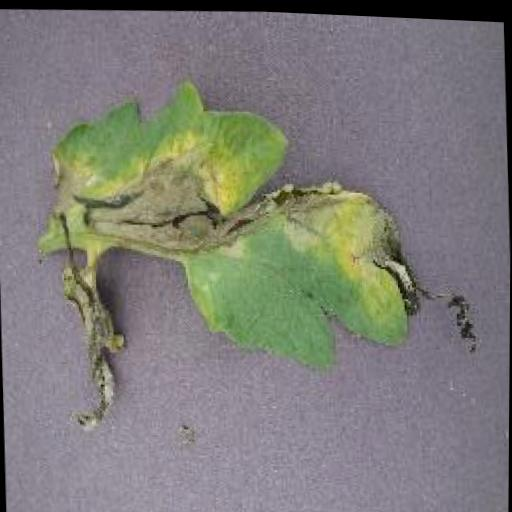Late Blight: (31, 61, 476, 449)
